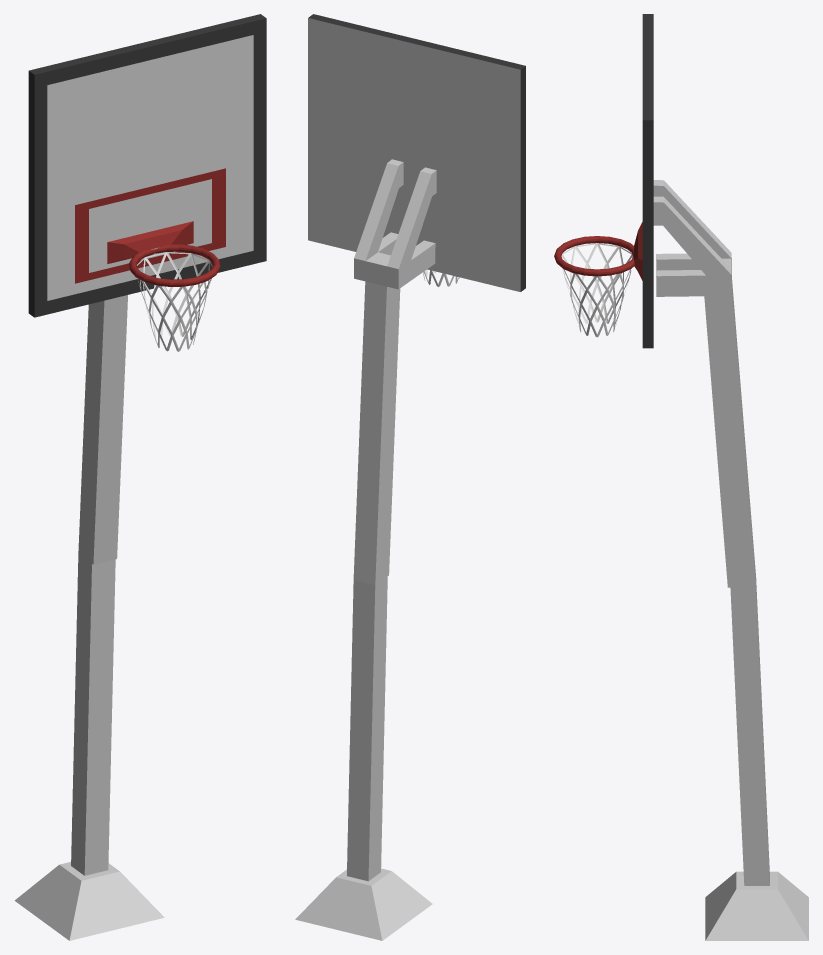
The model's file is ring.fbx.
3 renders of one model, left to right at view 1: azimuth 30°, elevation 25°; view 2: azimuth 150°, elevation 25°; view 3: azimuth 270°, elevation 25°, orthographic. The views are drawn at different scales.
Visible parts, largest first — view 1: Cube.001, Cube, Torus.001, Torus.002; view 2: Cube.001, Cube; view 3: Cube, Cube.001, Torus.001, Torus.002.
Boxes of the visible parts, bbox=[...] form: Cube.001: bbox=[28, 14, 266, 317]; Cube: bbox=[14, 295, 164, 940]; Torus.001: bbox=[137, 252, 212, 351]; Torus.002: bbox=[129, 244, 220, 286]; Cube.001: bbox=[308, 14, 525, 291]; Cube: bbox=[295, 159, 436, 940]; Cube: bbox=[653, 180, 808, 940]; Cube.001: bbox=[634, 14, 653, 348]; Torus.001: bbox=[561, 243, 632, 337]; Torus.002: bbox=[554, 236, 634, 276].
Size of the model in its own units: 283 by 1056 by 286.
